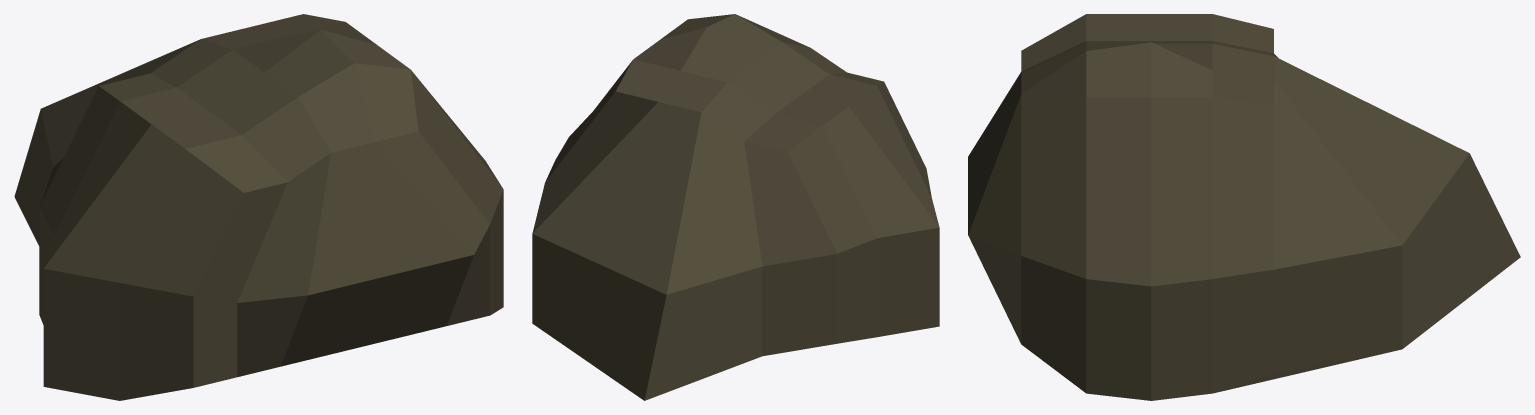
Rendered from rock2.fbx.
The picture shows the model from 3 angles, left to right: view 1: azimuth 30°, elevation 25°; view 2: azimuth 150°, elevation 25°; view 3: azimuth 270°, elevation 25°; orthographic projection. The views are drawn at different scales.
Visible parts, largest first — view 1: Rock; view 2: Rock; view 3: Rock.
Part boxes in pixels (bbox=[...]): Rock: bbox=[14, 14, 503, 400]; Rock: bbox=[532, 14, 939, 400]; Rock: bbox=[968, 14, 1520, 400].
Bounding box in the file's own units: 392 × 260 × 438.
